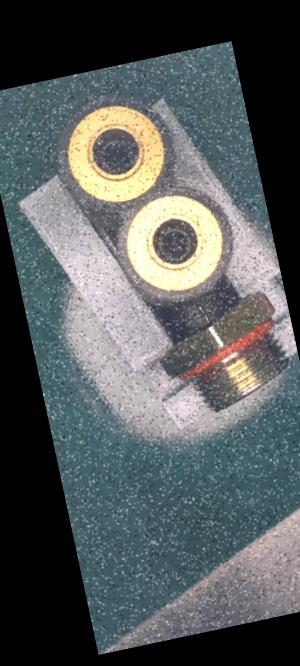craze: (196, 298, 212, 329)
